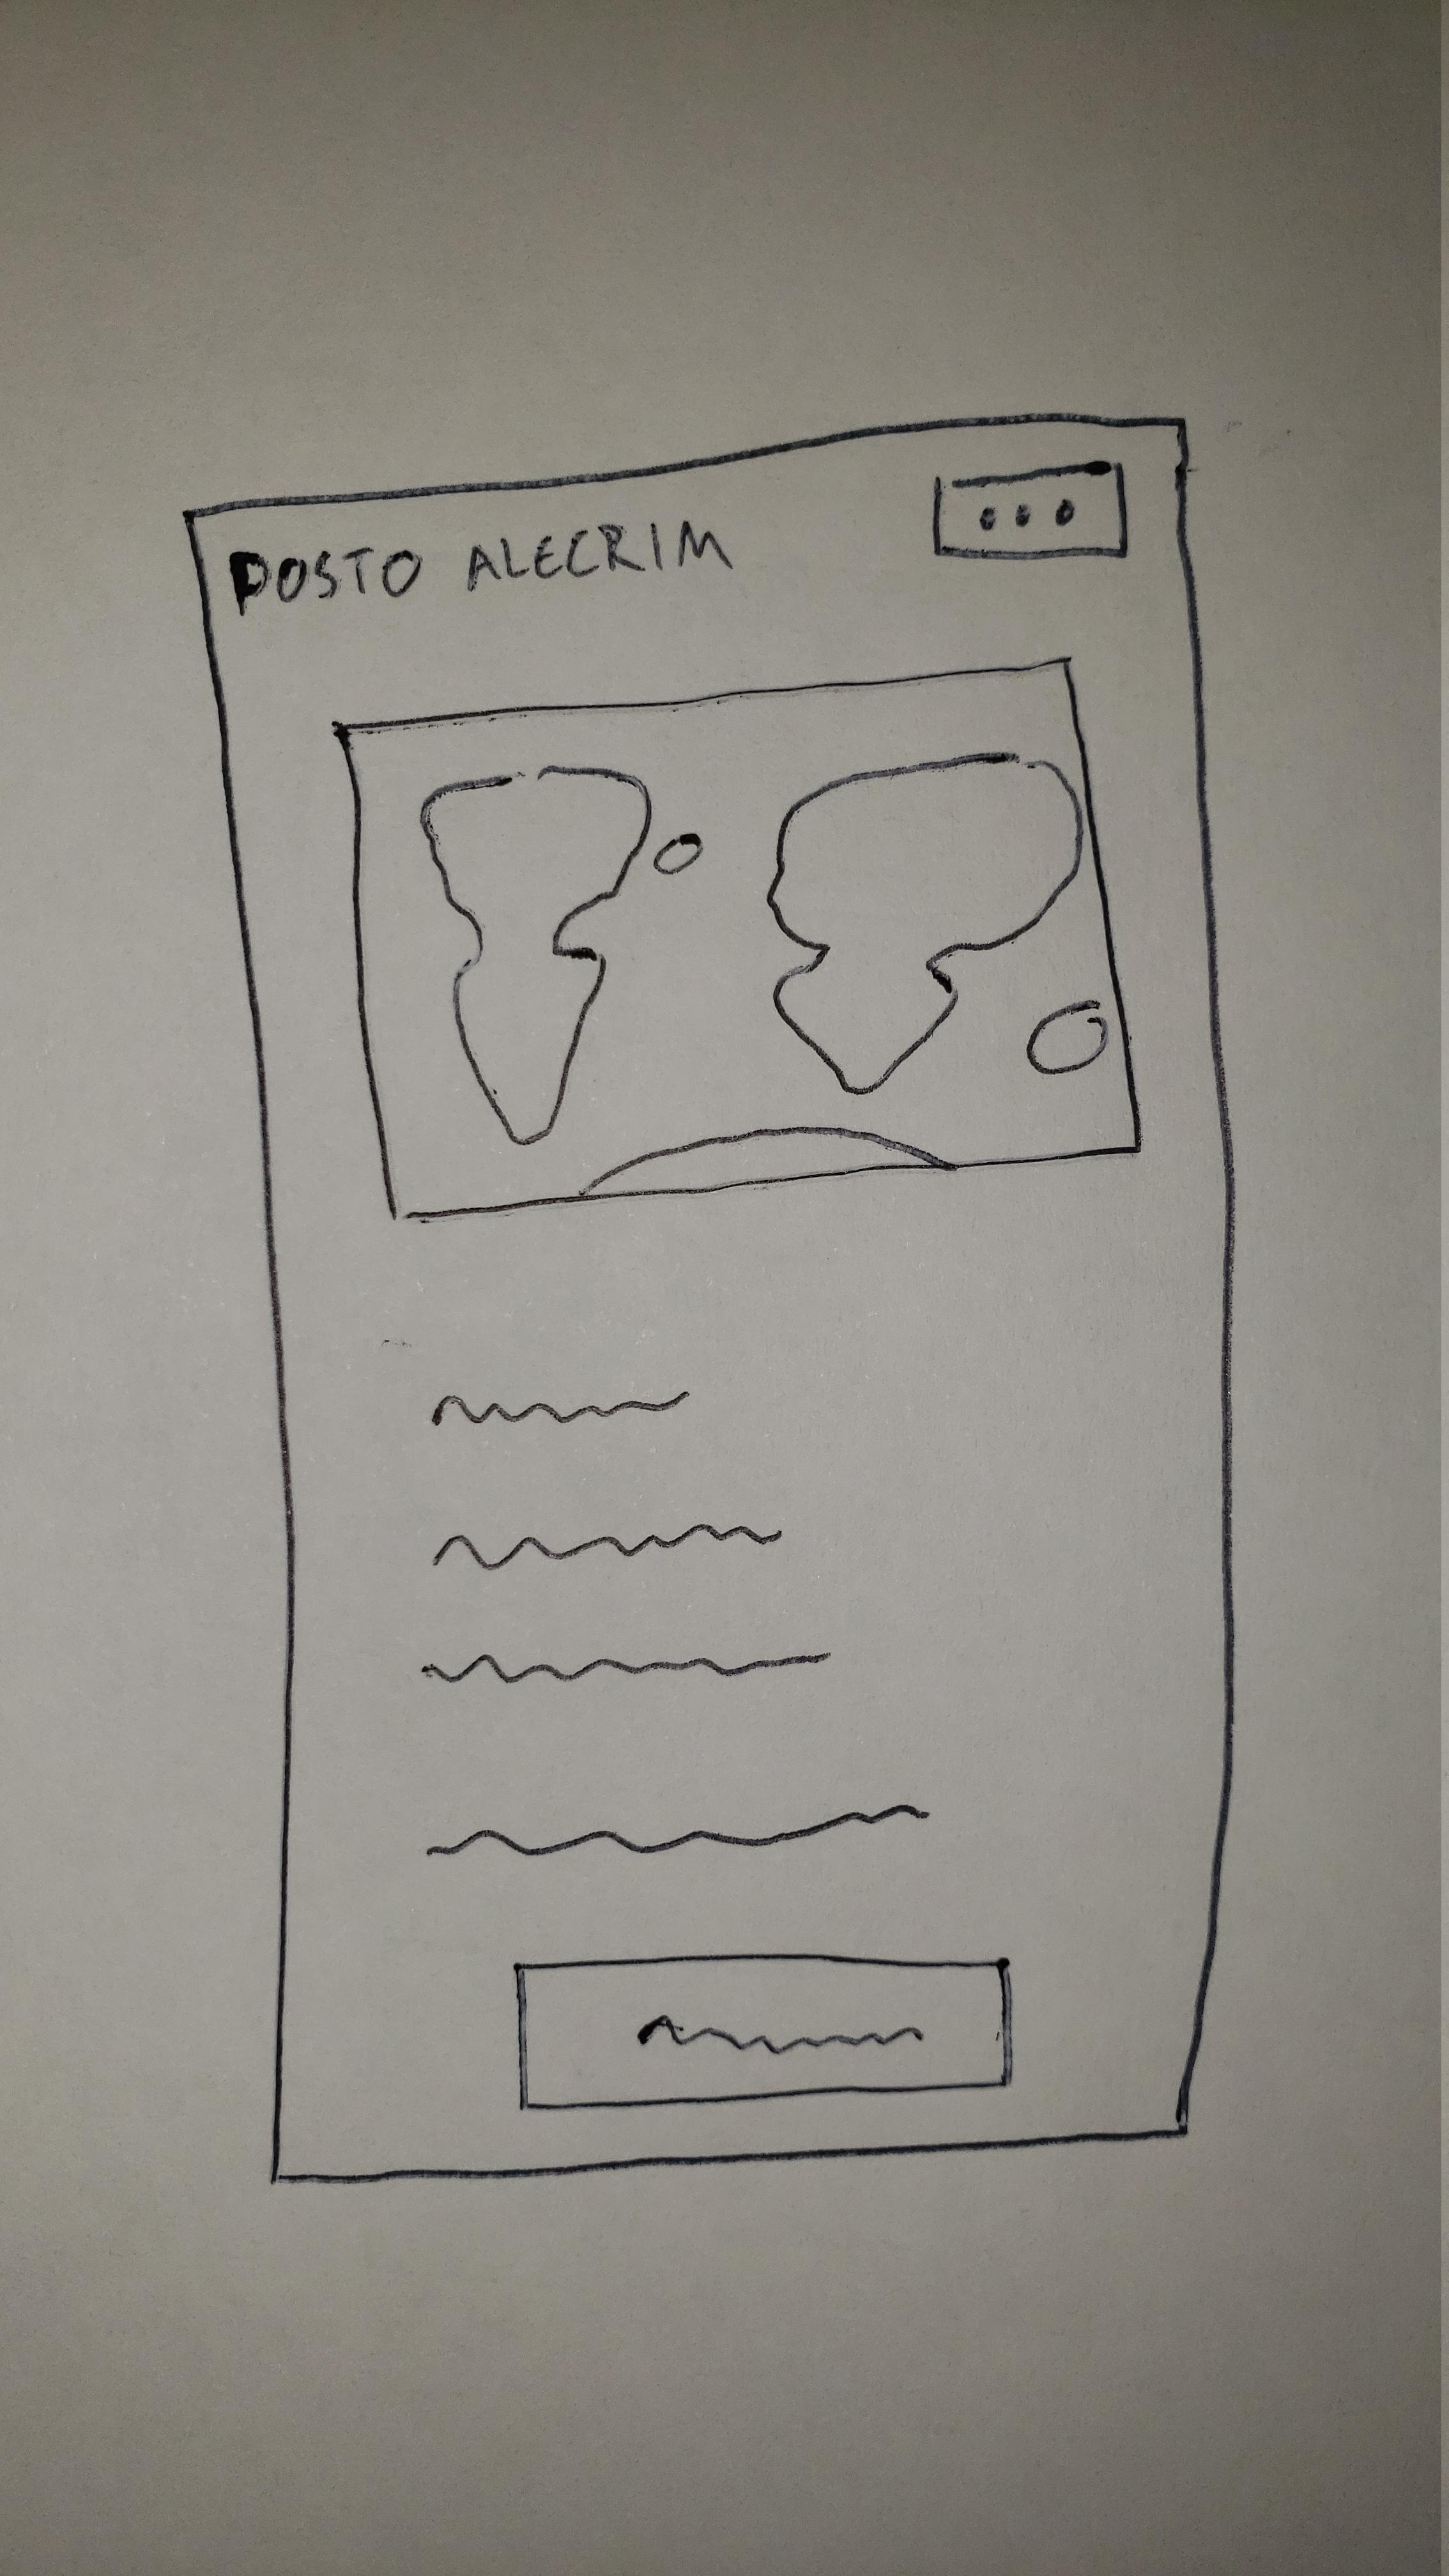Button: (515, 1955, 1014, 2109), (931, 460, 1129, 559)
Label: (228, 518, 732, 614), (425, 1801, 929, 1863), (418, 1644, 833, 1688), (433, 1527, 784, 1573), (430, 1389, 692, 1428)
Map: (338, 656, 1139, 1223)
Screen: (180, 409, 1238, 2183)
